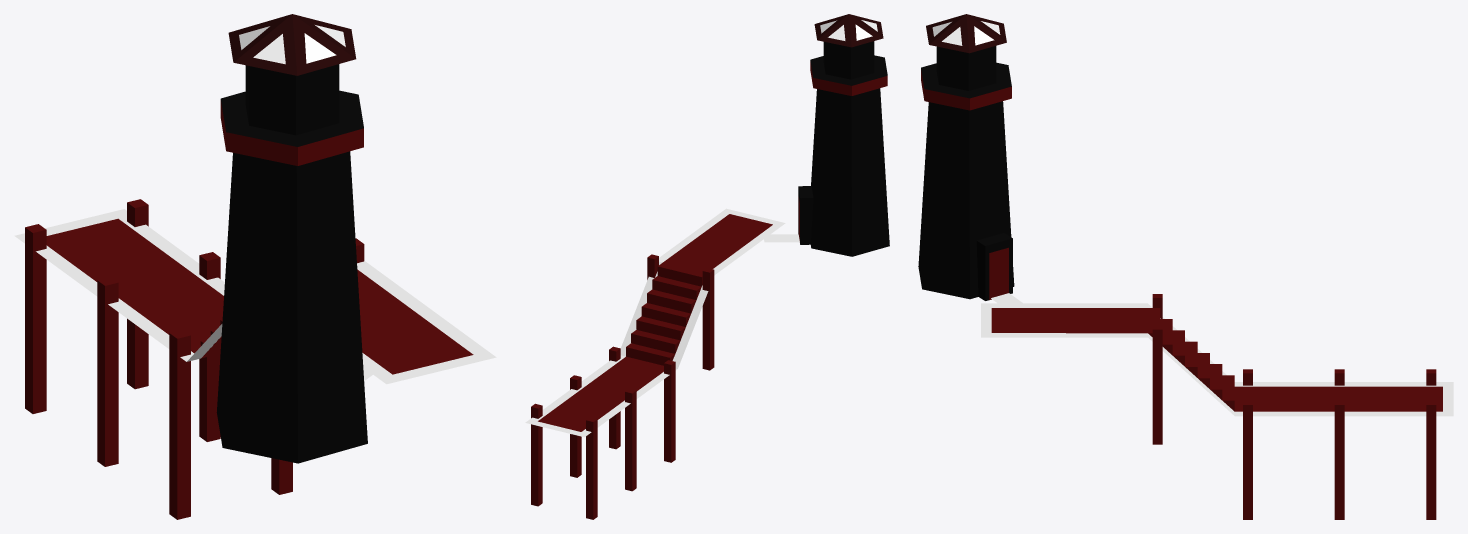
File: FBX_LighthouseOne_R.fbx
The picture shows the model from 3 angles, left to right: view 1: azimuth 30°, elevation 25°; view 2: azimuth 150°, elevation 25°; view 3: azimuth 270°, elevation 25°; orthographic projection. The views are drawn at different scales.
Visible parts, largest first — view 1: LighthouseOne_R; view 2: LighthouseOne_R; view 3: LighthouseOne_R.
Part boxes in pixels (<box>): LighthouseOne_R: <box>14,14,496,519</box>; LighthouseOne_R: <box>525,14,889,519</box>; LighthouseOne_R: <box>918,14,1453,519</box>.
Bounding box in the file's own units: 320 × 724 × 801.
